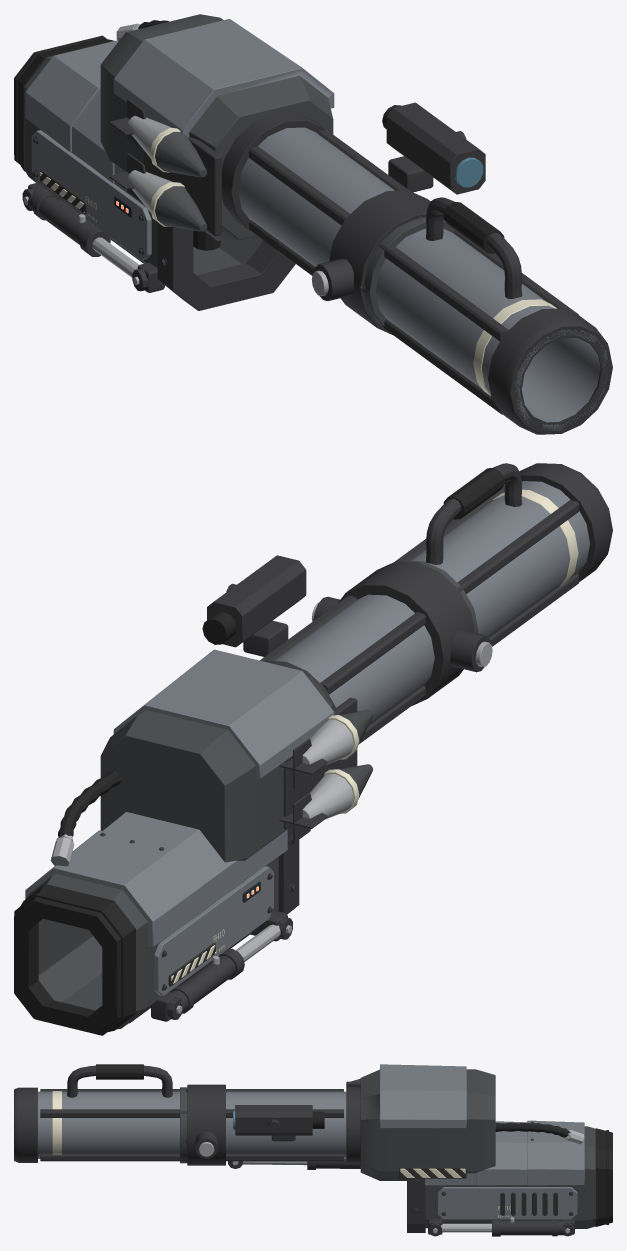
The model's file is lightmortar.glb.
3 views of the same model, one above another, from view 1: azimuth 30°, elevation 25°; view 2: azimuth 150°, elevation 25°; view 3: azimuth 270°, elevation 25° (orthographic). The views are drawn at different scales.
Parts seen in each view (by area): view 1: Body; view 2: Body; view 3: Body.
Part boxes in pixels (x1=…): Body: x1=14, y1=14, x2=612, y2=434; Body: x1=14, y1=463, x2=612, y2=1035; Body: x1=14, y1=1064, x2=612, y2=1236.
Size of the model in its own units: 0.3171 by 0.3658 by 1.24.
